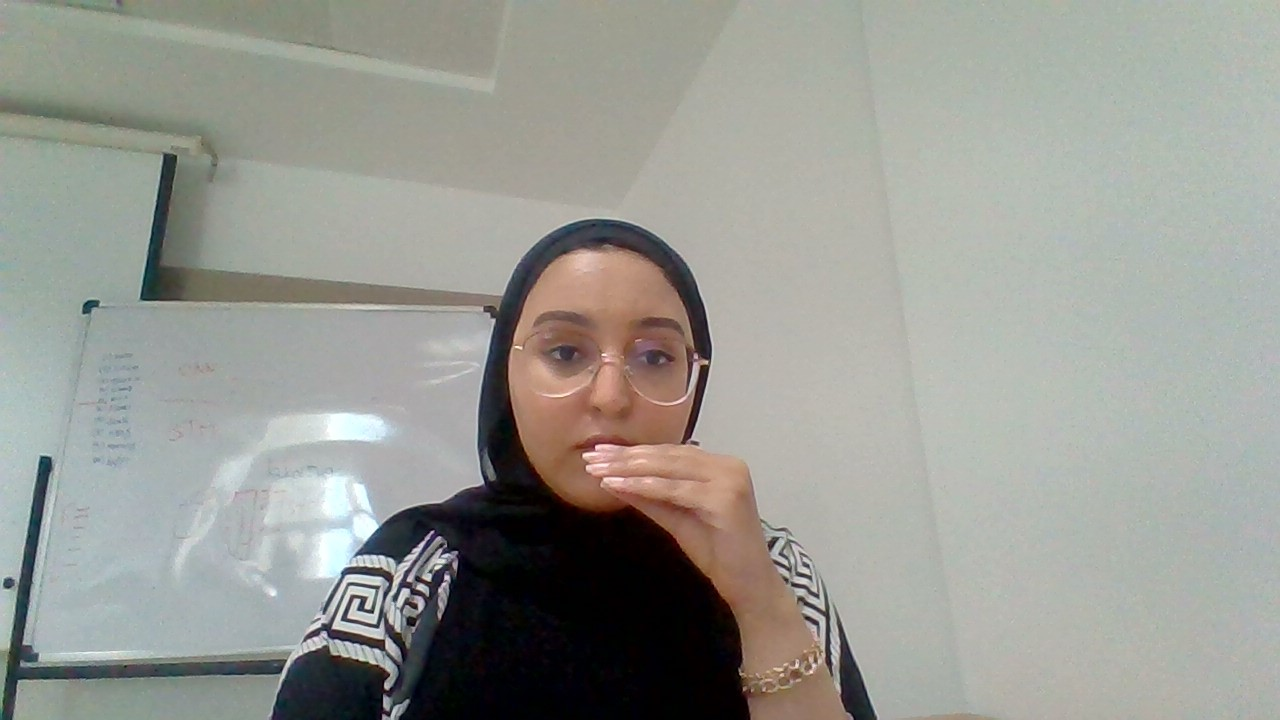eat: (577, 432, 778, 602)
